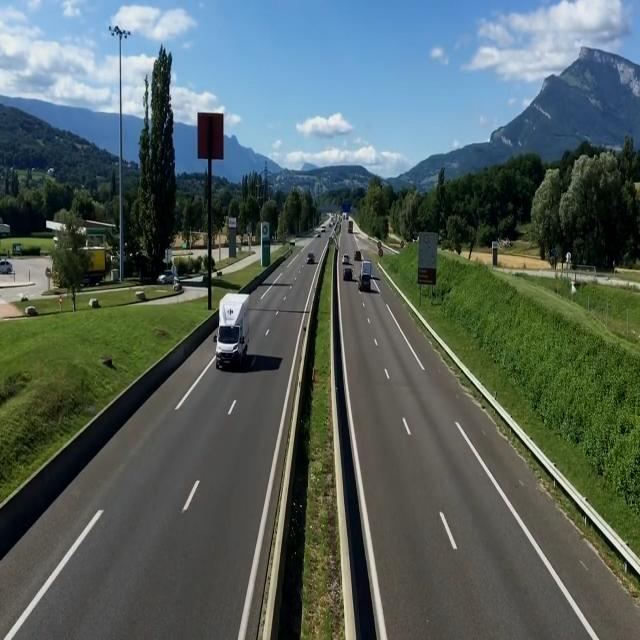Car: (358, 274, 372, 292), (0, 259, 14, 275), (342, 268, 353, 281), (306, 253, 316, 265), (341, 253, 349, 265), (354, 251, 361, 260), (314, 232, 320, 238)
Truck: (212, 291, 252, 370), (361, 260, 373, 279), (347, 220, 354, 234)
